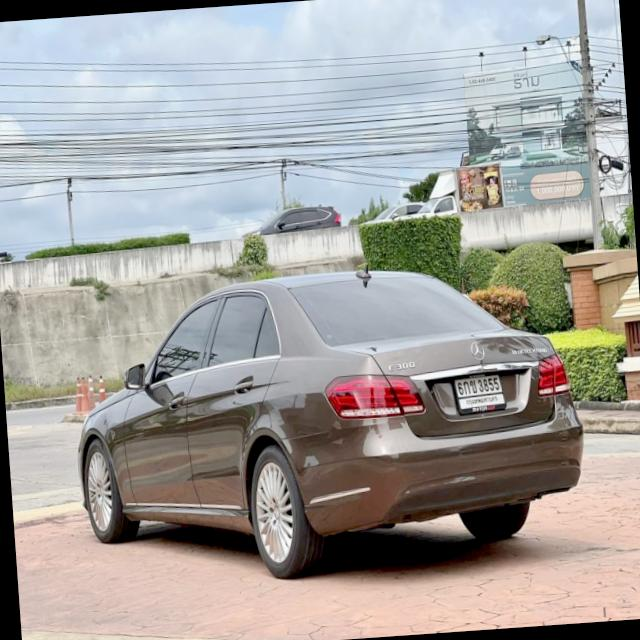license_plate: (451, 370, 508, 416)
